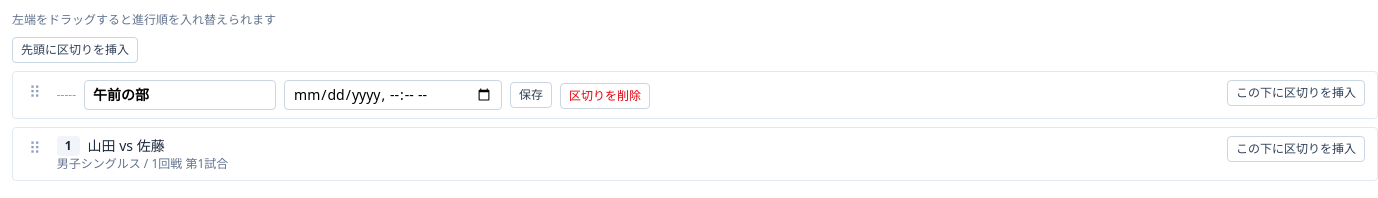
Test case: ScheduleList › 挿入中は挿入ボタンをすべて止める
The width and height of the screenshot is (1378, 198).
Click the button "先頭に区切りを挿入". click: (75, 50)
box: left=12, top=37, right=138, bottom=63
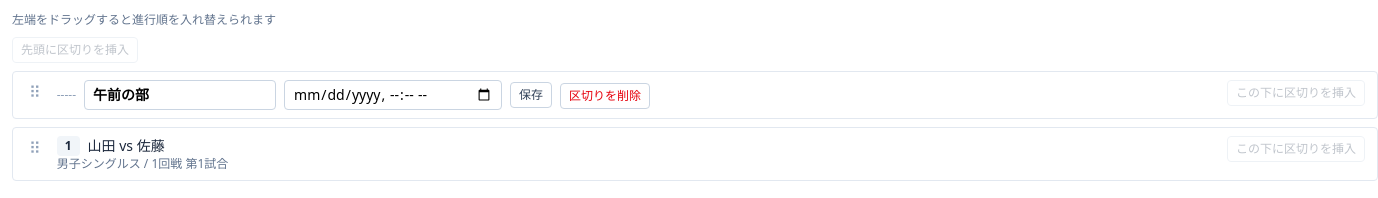
Check: the button "先頭に区切りを挿入" is disabled
Check: the 1st button "この下に区切りを挿入" is disabled, box left=1227, top=80, right=1365, bottom=106
Check: the button "この下に区切りを挿入" in the row of "山田 vs 佐藤" is disabled, box left=1227, top=136, right=1365, bottom=162
Click the button "先頭に区切りを挿入". click: (75, 50)
box: left=12, top=37, right=138, bottom=63
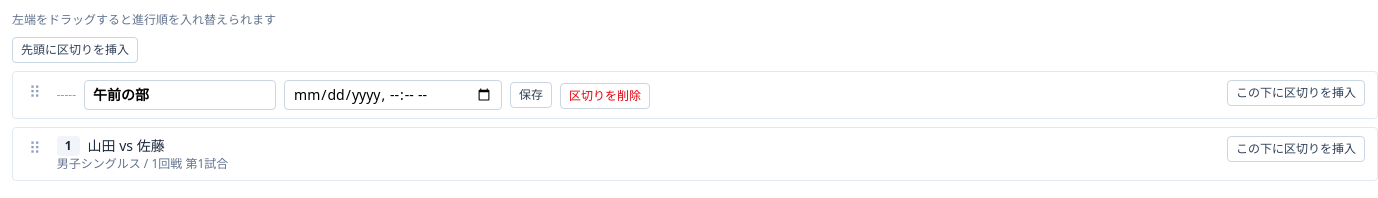
Check: the button "先頭に区切りを挿入" is enabled, box left=12, top=37, right=138, bottom=63
